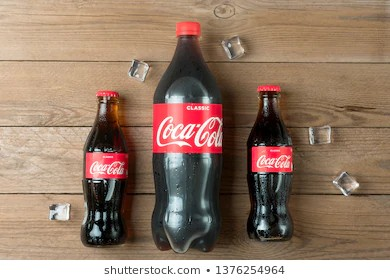coke-bottle-2l: (149, 18, 227, 252)
coke-glass-bottle: (79, 90, 134, 248), (244, 83, 296, 243)
